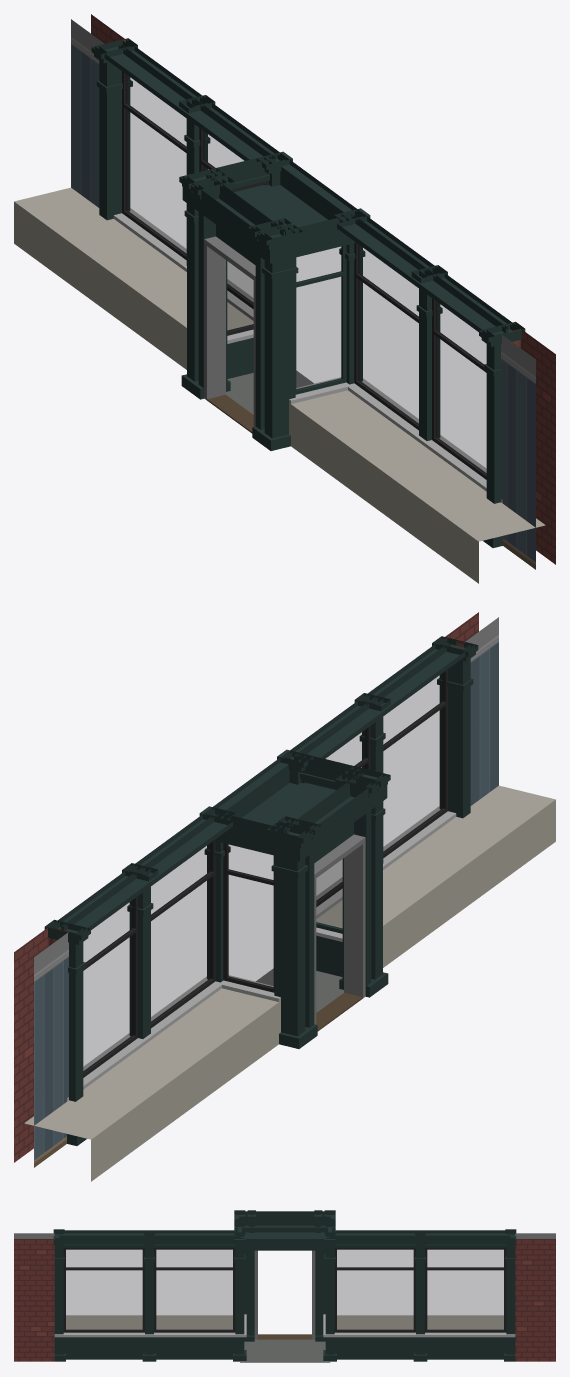
File: SM_shopFront_04.glb
3 renders of one model, top to bottom at view 1: azimuth 30°, elevation 25°; view 2: azimuth 150°, elevation 25°; view 3: azimuth 270°, elevation 25°, orthographic. The views are drawn at different scales.
Parts seen in each view (by area): view 1: SM_shopFront_04; view 2: SM_shopFront_04; view 3: SM_shopFront_04.
Part boxes in pixels (bbox=[...]): SM_shopFront_04: bbox=[14, 14, 555, 583]; SM_shopFront_04: bbox=[14, 612, 555, 1181]; SM_shopFront_04: bbox=[14, 1210, 555, 1362].
Bounding box in the file's own units: 1.55 × 3 × 12.
Materials: 5 (3 with a texture image).
